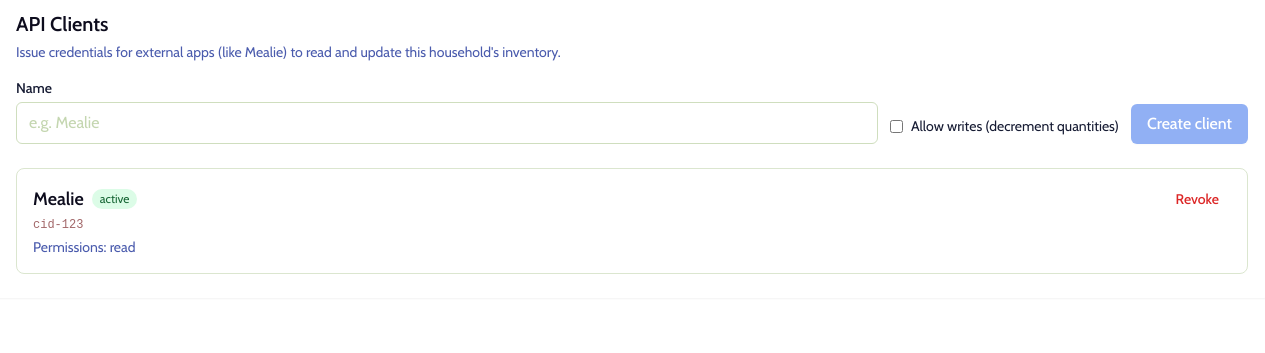
it: ApiClientManager › surfaces a revoke error
Expected: the heading "Mealie" is shown, [33, 185, 84, 213]
Click the button "Revoke" at (1197, 199), box [1164, 185, 1231, 213]
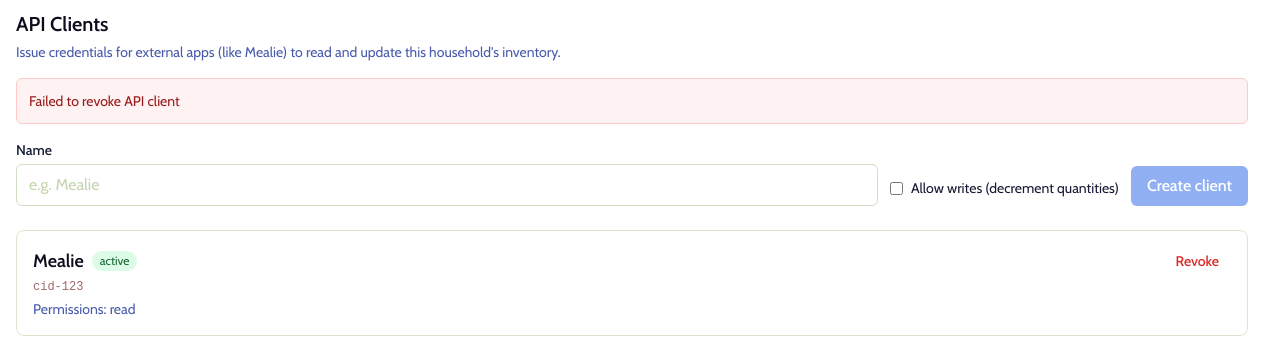
Now the text "Failed to revoke API client" is shown, box [29, 92, 180, 110]
